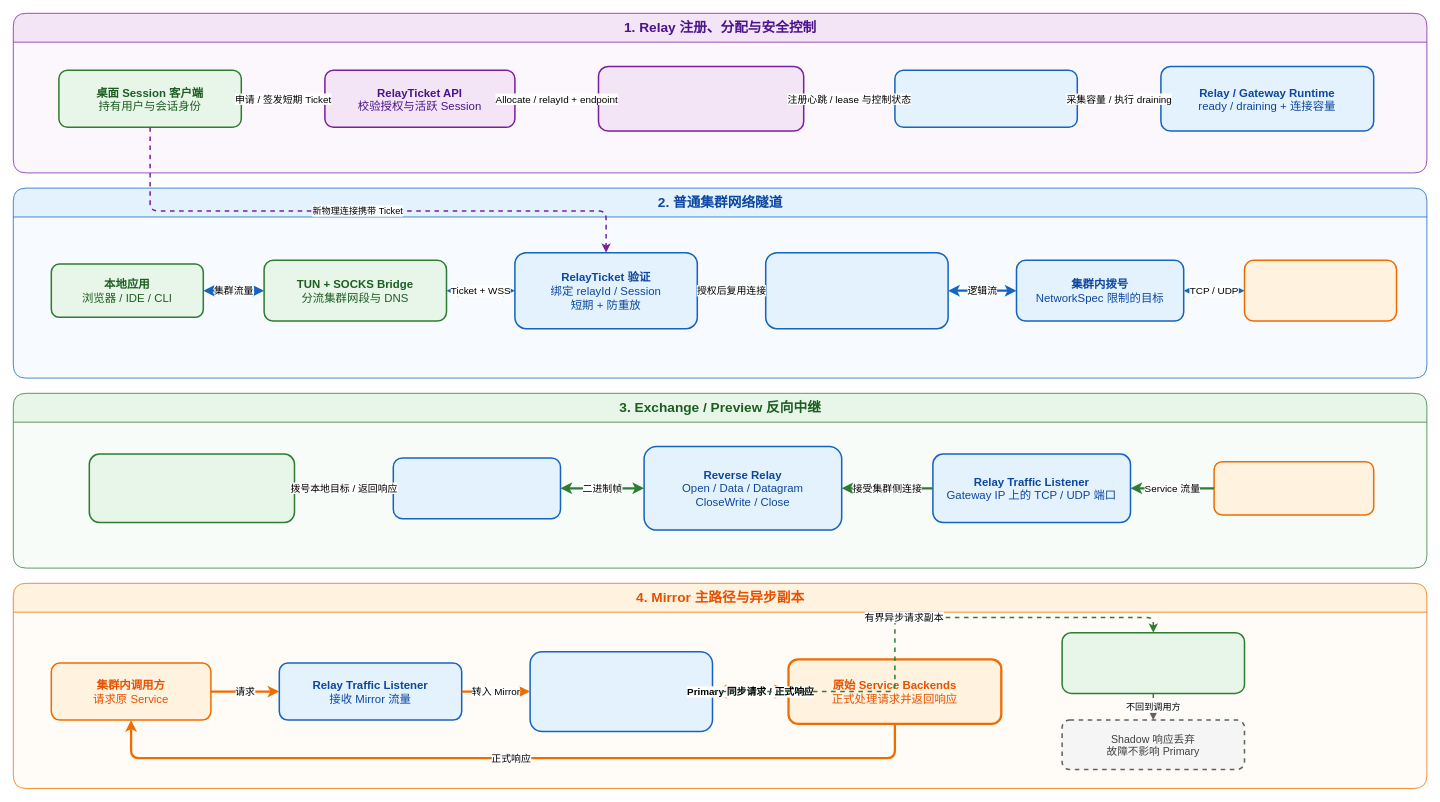
This 1440x802 diagram has some shape labels left out. Each missing label, with the centre of its shape:
"Kubernetes 目标 Pod / ClusterIP / CoreDNS" belongs at (x=1320, y=290).
"Mirror Relay 主路径同步 Shadow 有界异步" belongs at (x=621, y=691).
"Relay Agent 注册 endpoint + 心跳" belongs at (x=986, y=98).
"Relay Registry 租约·拓扑·容量·粘性分配" belongs at (x=700, y=98).
"WSS Multiplexer 一条物理连接 多路 TCP / UDP 逻辑流" belongs at (x=856, y=290).
"反向 WSS 流 集群侧触发连接" belongs at (x=476, y=488).
"桌面 Shadow 服务 只接收请求副本" belongs at (x=1153, y=663).
"桌面本地服务 Exchange / Preview 目标" belongs at (x=191, y=488).
"集群内调用方 访问 Service" belongs at (x=1293, y=488).
